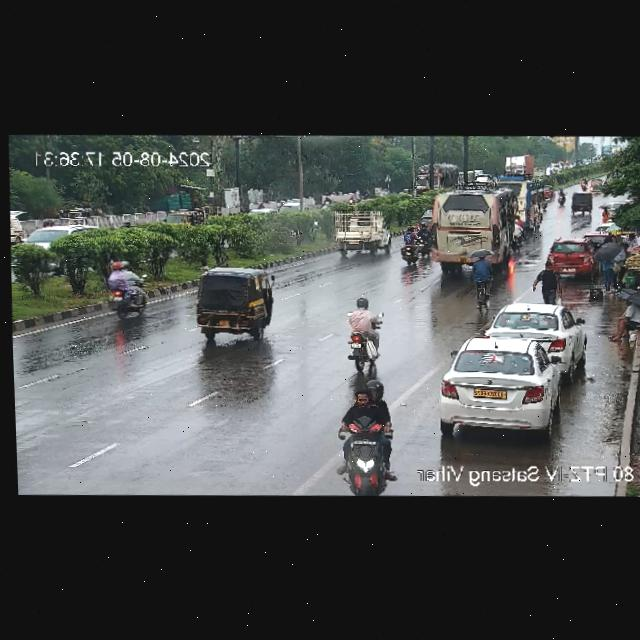bus: (432, 188, 512, 261)
car: (435, 335, 580, 436), (187, 270, 276, 340), (490, 302, 582, 360), (22, 223, 99, 260), (543, 240, 594, 275), (275, 197, 312, 221), (160, 209, 206, 227), (565, 190, 594, 214)
motorcycle: (337, 372, 400, 496), (343, 298, 381, 371), (97, 283, 146, 321), (396, 228, 427, 265), (554, 189, 565, 207)
person: (606, 293, 640, 341), (465, 253, 496, 290), (535, 262, 560, 306)
truck: (327, 209, 391, 257), (504, 176, 544, 236), (410, 161, 463, 195), (499, 154, 535, 180)
